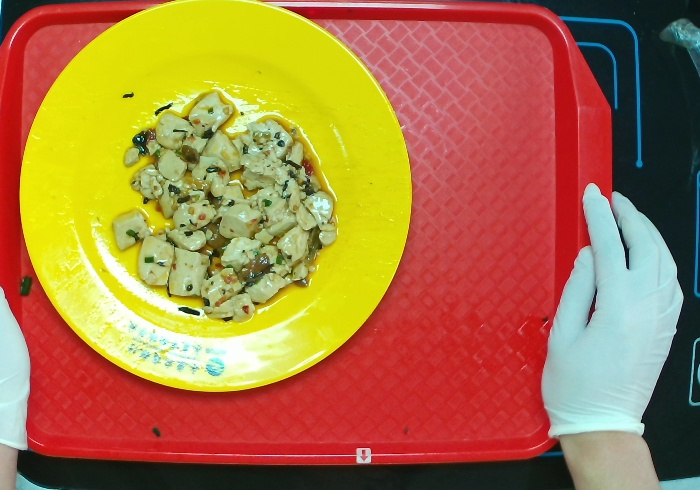YKMZ-Huang_Se_Mian_Pan: (12, 1, 414, 405)
